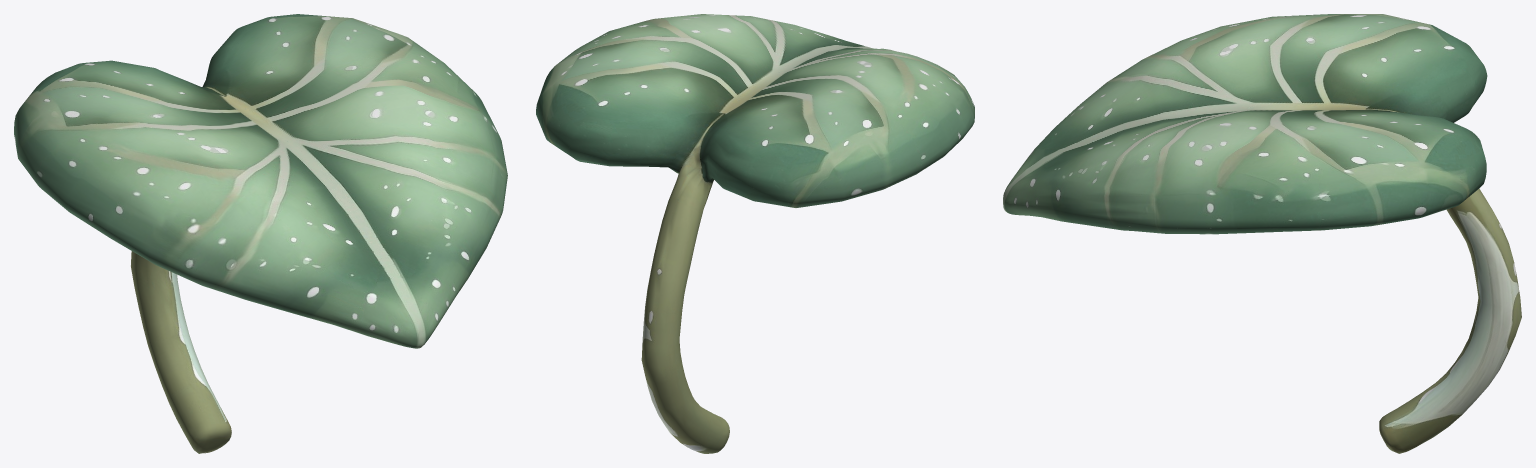
Rendered from pothos_mint_dot_34_v2.glb.
3 views of the same model, side by side, from view 1: azimuth 30°, elevation 25°; view 2: azimuth 150°, elevation 25°; view 3: azimuth 270°, elevation 25° (orthographic). The views are drawn at different scales.
Size of the model in its own units: 1.71 by 1.57 by 2.
Materials: 1 (1 with a texture image).
